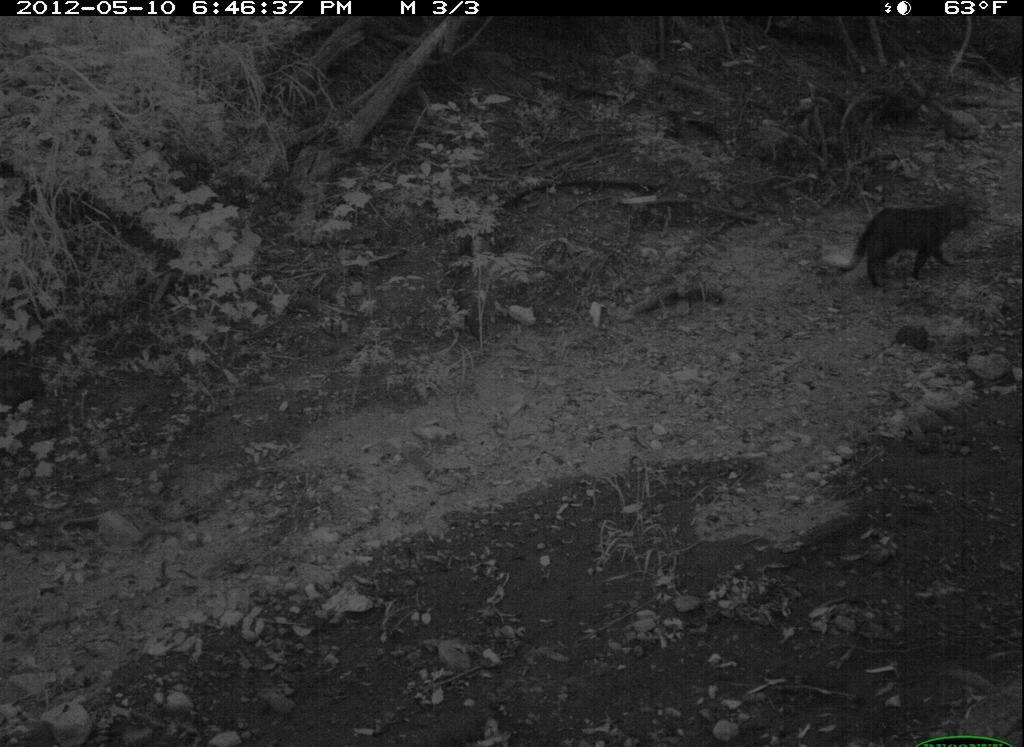cat: (807, 178, 988, 303)
